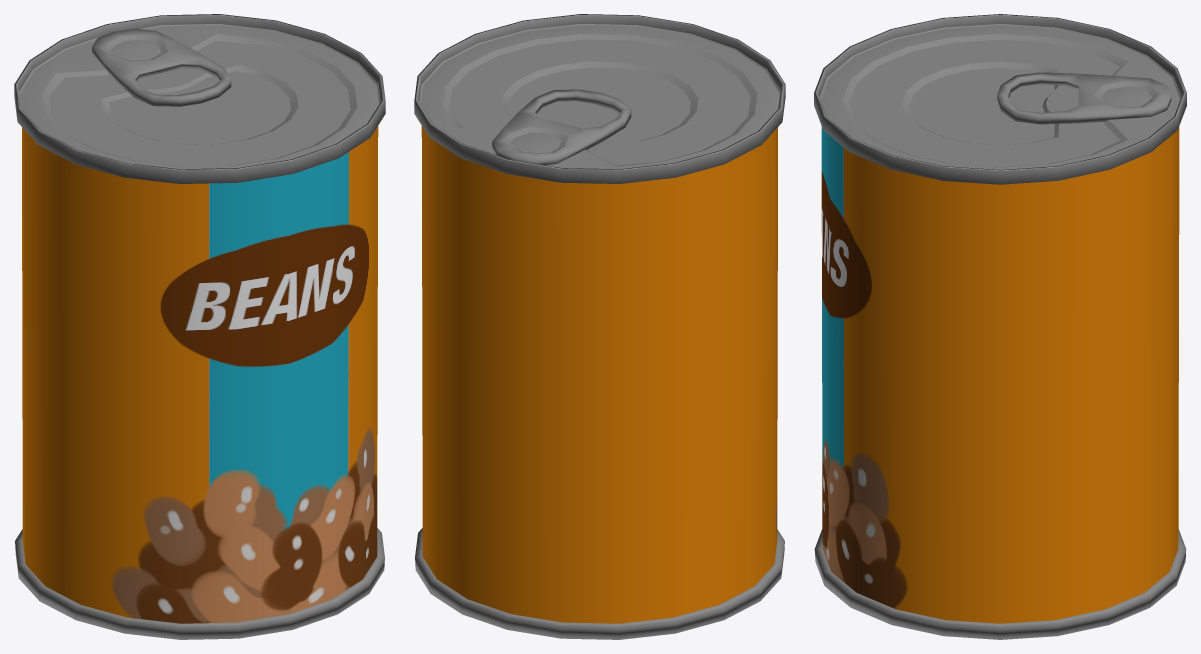
Rendered from Food Can.fbx.
3 views of the same model, side by side, from view 1: azimuth 30°, elevation 25°; view 2: azimuth 150°, elevation 25°; view 3: azimuth 270°, elevation 25° (orthographic).
Parts seen in each view (by area): view 1: Food_Can; view 2: Food_Can; view 3: Food_Can.
Part boxes in pixels (x1,y1,x2,y2): Food_Can: (14, 14, 385, 639); Food_Can: (414, 14, 785, 639); Food_Can: (814, 14, 1186, 639).
Size of the model in its own units: 1.03 by 1.42 by 1.03.
Materials: 1 (1 with a texture image).
